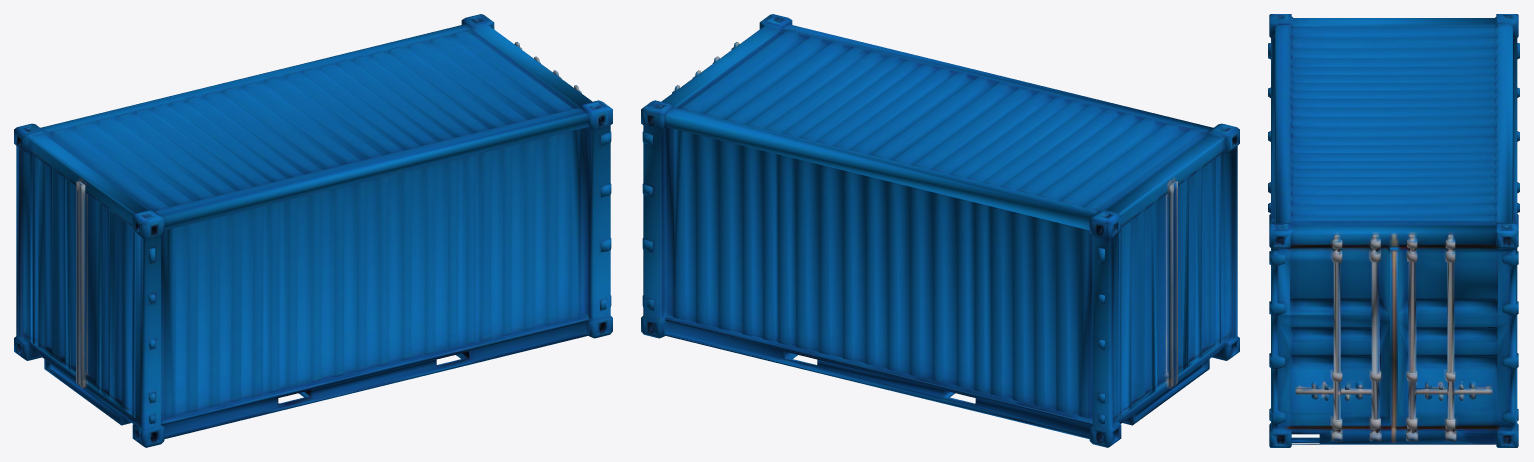
File: blue_shipping_container_60b5ea93_v2.glb
3 renders of one model, left to right at view 1: azimuth 30°, elevation 25°; view 2: azimuth 150°, elevation 25°; view 3: azimuth 270°, elevation 25°, orthographic. The views are drawn at different scales.
Visible parts, largest first — view 1: material; view 2: material; view 3: material.
Boxes of the visible parts, bbox=[...] form: material: bbox=[14, 14, 612, 447]; material: bbox=[641, 14, 1239, 447]; material: bbox=[1268, 14, 1519, 447].
Size of the model in its own units: 1.9 by 0.8728 by 0.9158.
Materials: 1 (1 with a texture image).
